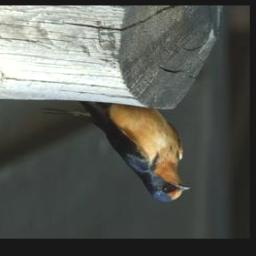Swallow: (39, 102, 192, 203)
